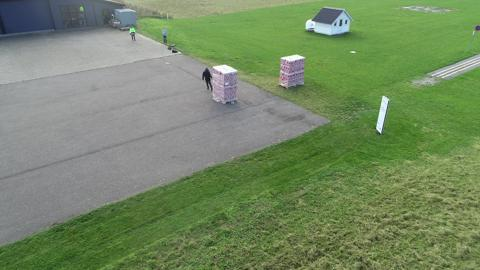RockwoolPallet: (212, 62, 239, 105)
